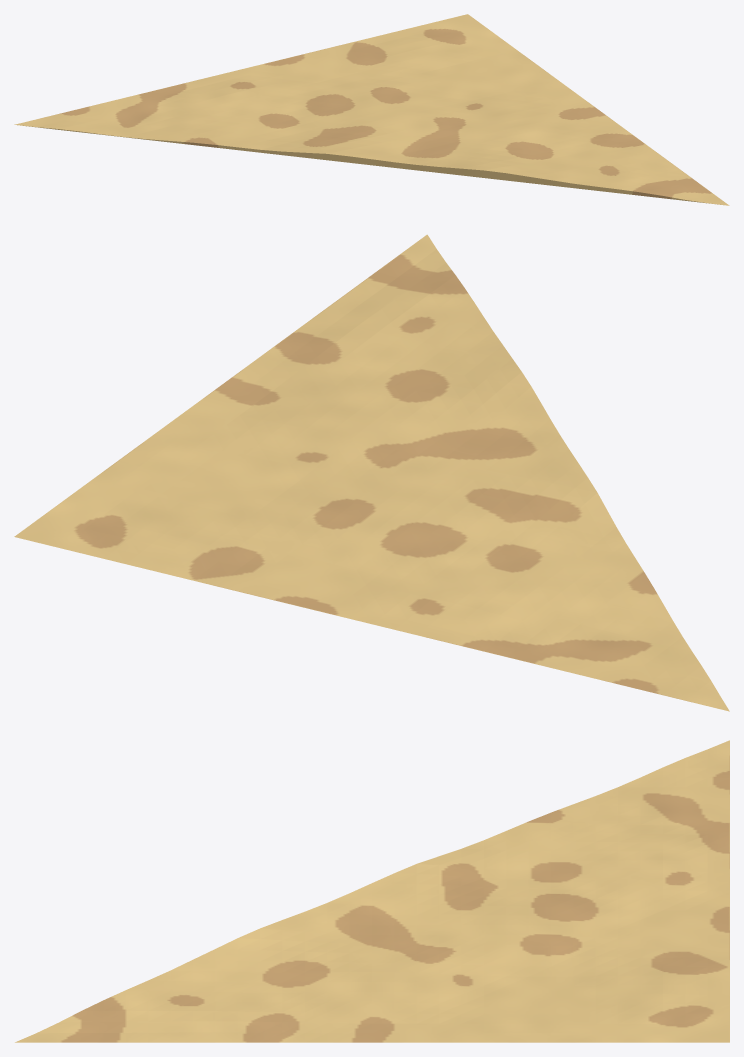
Rendered from Desert_Flat_11_SE.obj.
3 renders of one model, top to bottom at view 1: azimuth 30°, elevation 25°; view 2: azimuth 150°, elevation 25°; view 3: azimuth 270°, elevation 25°, orthographic. The views are drawn at different scales.
Bounding box in the file's own units: 10 × 0.1594 × 10.
1 material, 1 textured.
